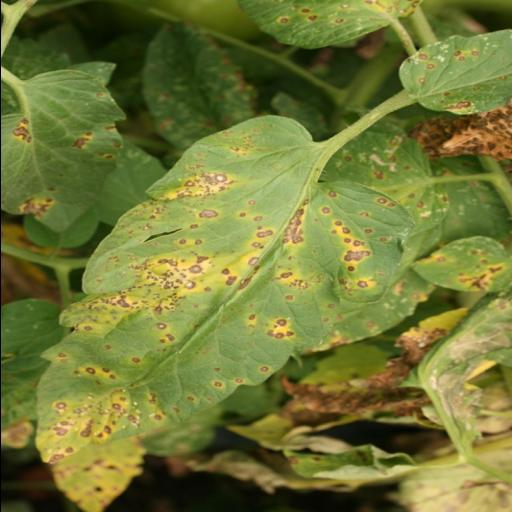Septoria: (28, 113, 414, 466), (0, 72, 130, 234), (397, 28, 512, 116), (235, 0, 426, 50), (409, 232, 512, 294)
